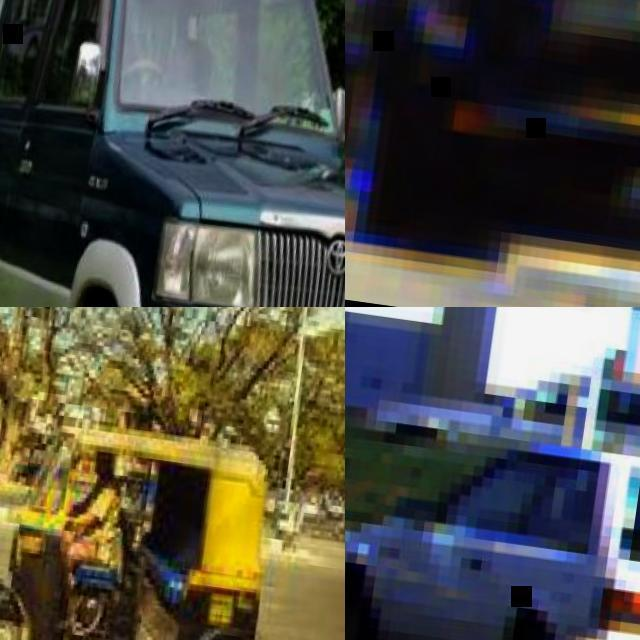car: (4, 0, 345, 305), (352, 403, 639, 638)
